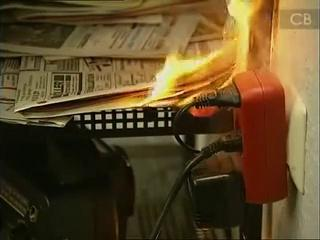Fire: (114, 1, 276, 119)
